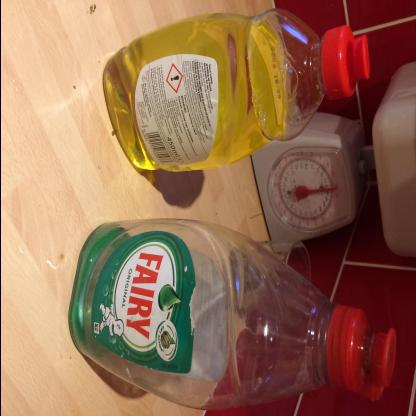plastik: (68, 215, 402, 416), (101, 7, 373, 182)
